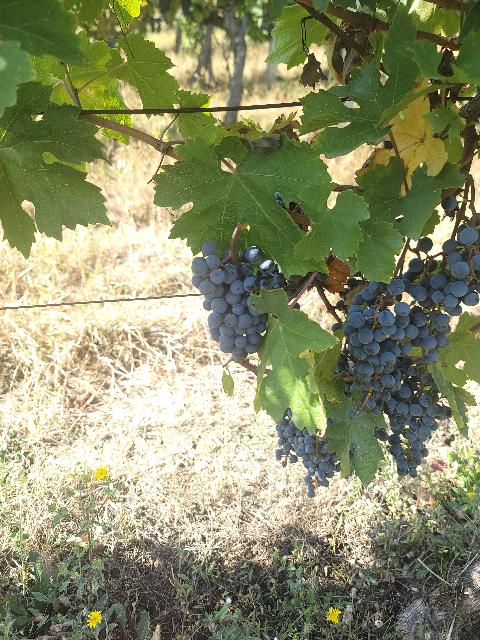grapes: (336, 278, 426, 415), (191, 241, 285, 360), (275, 408, 341, 498), (388, 394, 450, 478), (430, 226, 480, 316)
